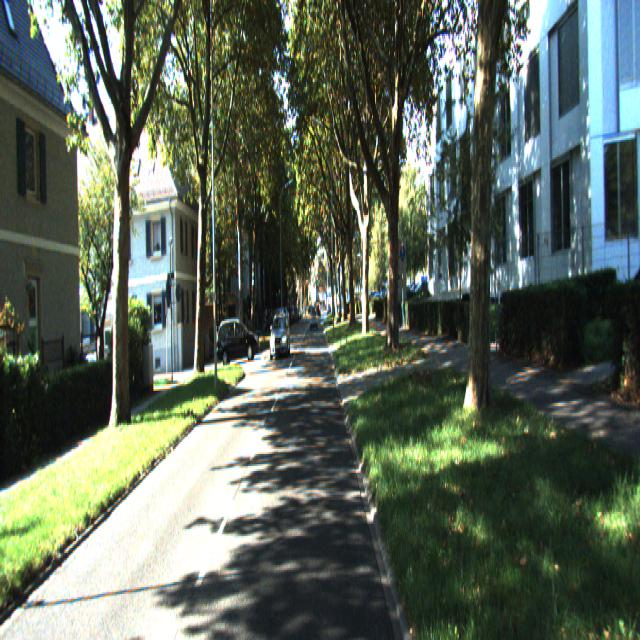Car: (217, 317, 260, 366), (270, 313, 292, 358)
